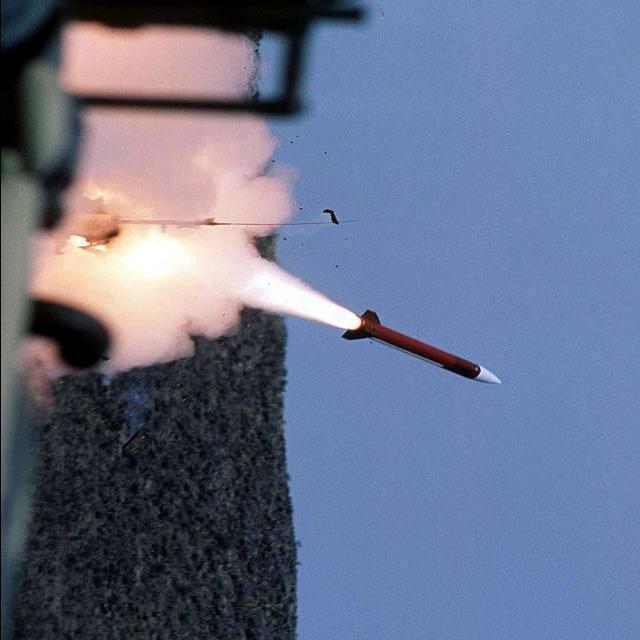missile: (338, 305, 500, 387)
